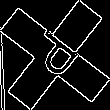P_SE: (24, 25, 86, 85)
